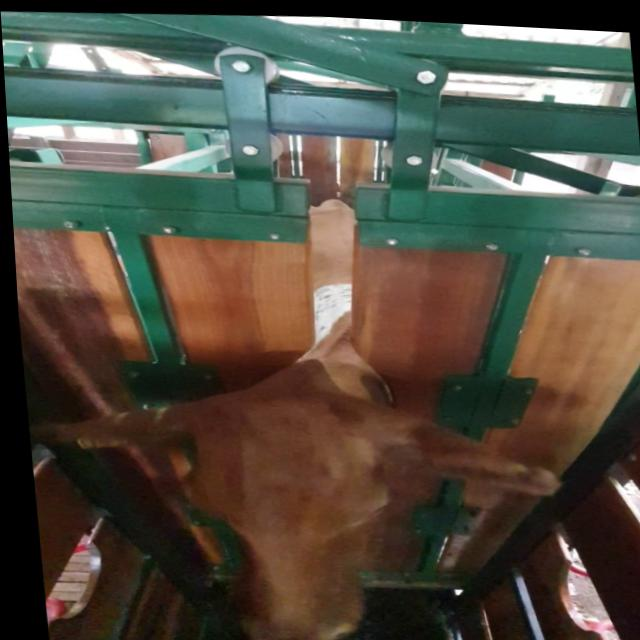cowFace: (162, 379, 394, 640)
